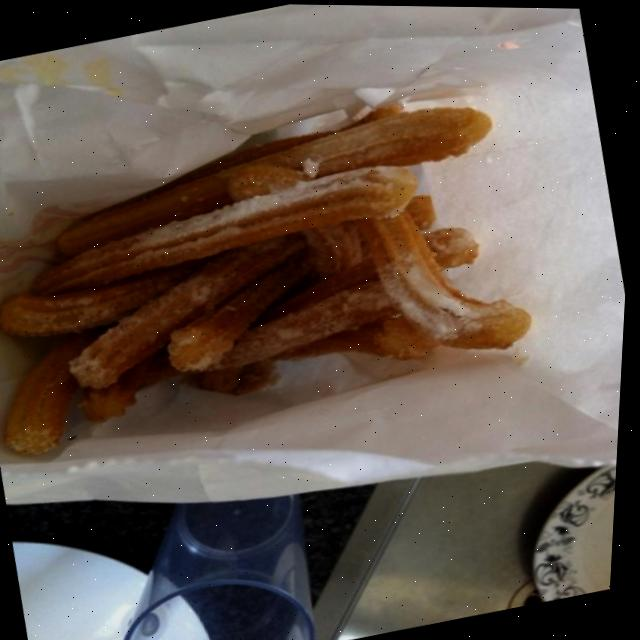炸货点心: (0, 3, 617, 530)
